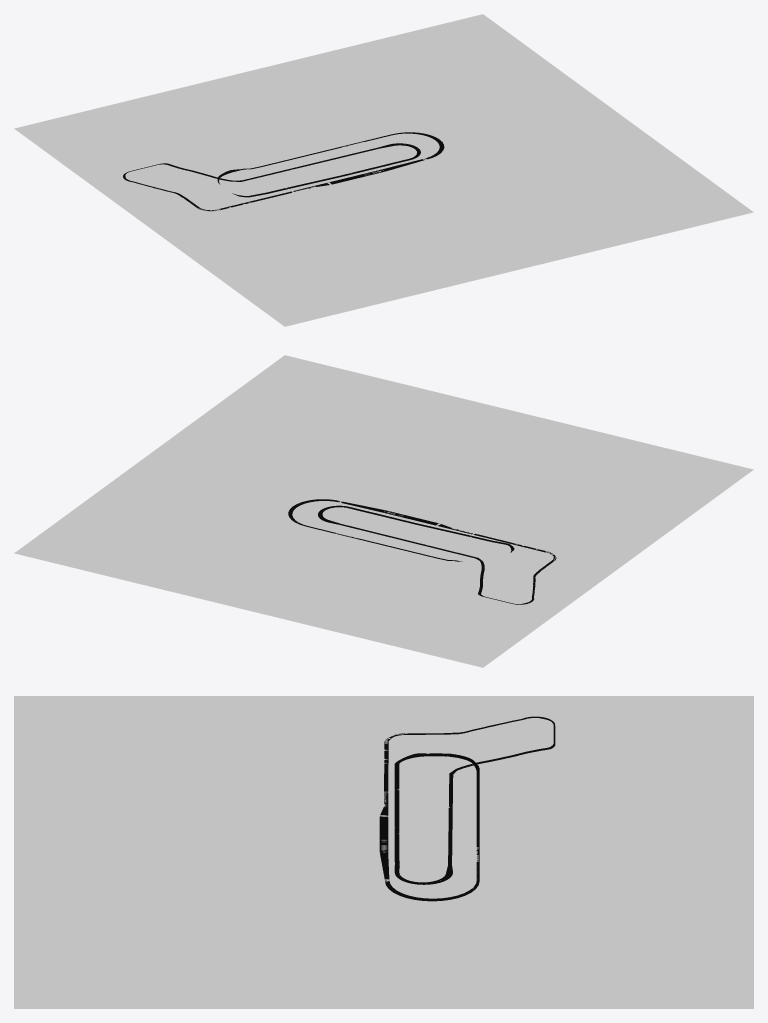
Rendered from mHistoricV1.glb.
3 renders of one model, top to bottom at view 1: azimuth 30°, elevation 25°; view 2: azimuth 150°, elevation 25°; view 3: azimuth 270°, elevation 25°, orthographic. The views are drawn at different scales.
Parts seen in each view (by area): view 1: Plane.001, Plane; view 2: Plane.001, Plane; view 3: Plane.001, Plane.
Boxes of the visible parts, box(x1,y1,x2,y2) form: Plane.001: box(14, 14, 753, 326); Plane: box(123, 132, 444, 211); Plane.001: box(14, 355, 753, 667); Plane: box(288, 499, 556, 604); Plane.001: box(14, 696, 753, 1008); Plane: box(379, 716, 555, 901).
Size of the model in its own units: 1400 by 10.72 by 1400.
Materials: 1 (1 with a texture image).
